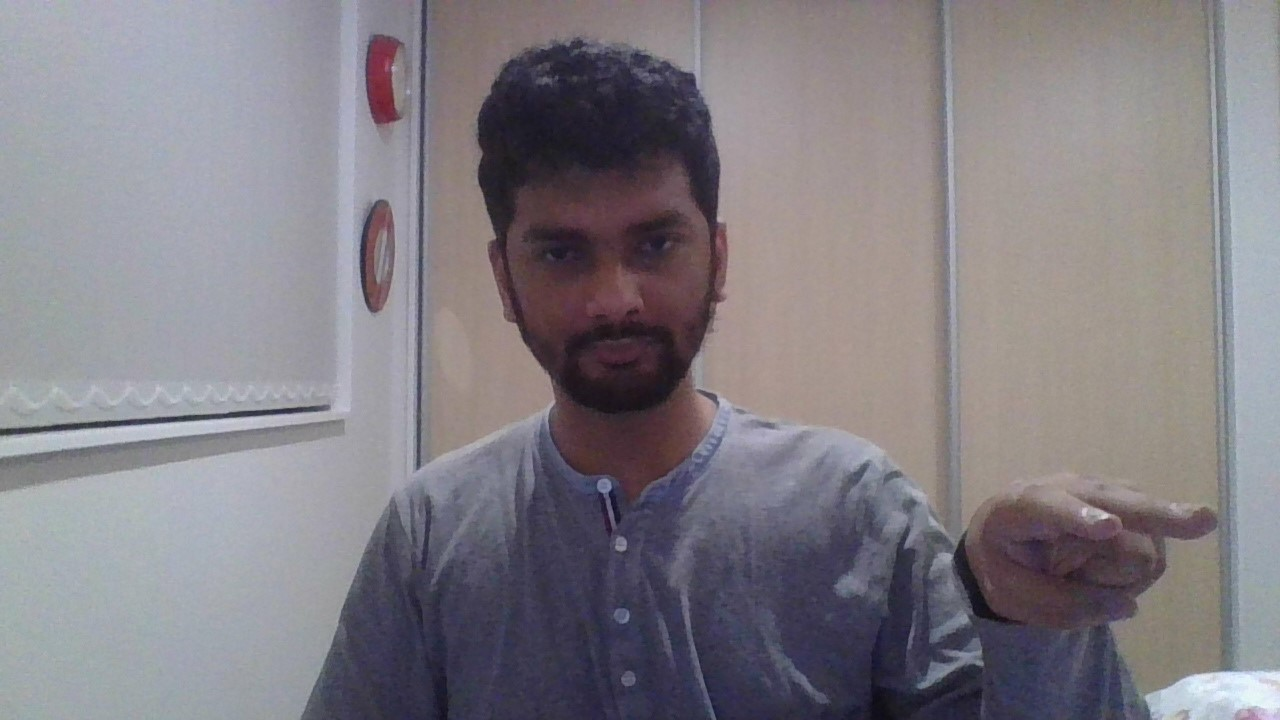look_around: (965, 472, 1218, 624)
